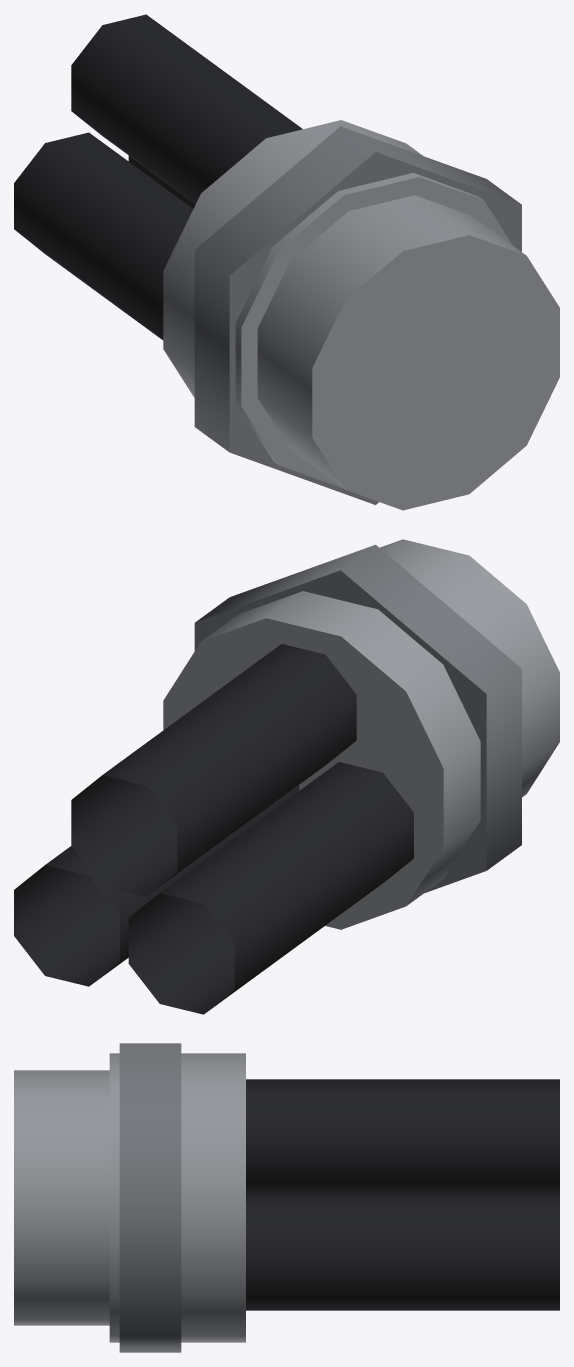
Rendered from half_plug_south.obj.
The picture shows the model from 3 angles, top to bottom: view 1: azimuth 30°, elevation 25°; view 2: azimuth 150°, elevation 25°; view 3: azimuth 270°, elevation 25°; orthographic projection. The views are drawn at different scales.
Visible parts, largest first — view 1: half_plug_south; view 2: half_plug_south; view 3: half_plug_south.
Part boxes in pixels (box(x1,y1,x2,y2)): half_plug_south: box(14, 14, 559, 510); half_plug_south: box(14, 539, 559, 1014); half_plug_south: box(14, 1043, 559, 1352).
Bounding box in the file's own units: 0.2706 × 0.3125 × 0.5.
